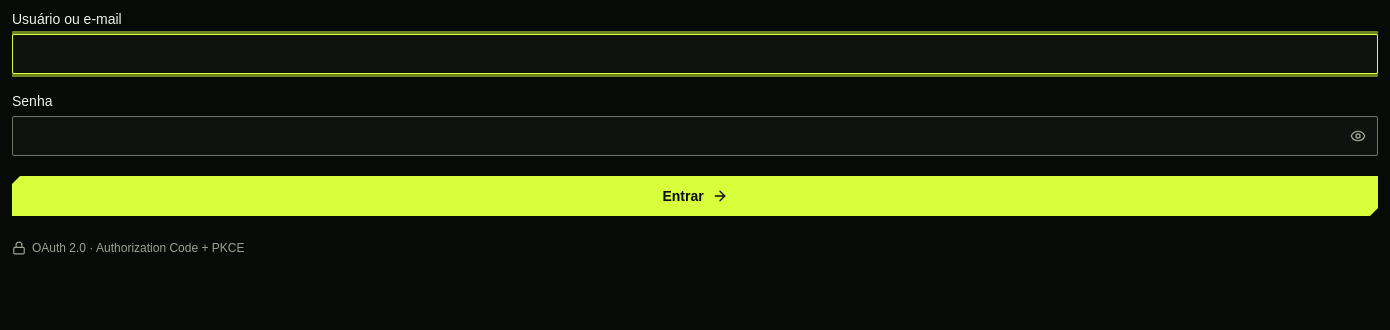
Test: <LoginForm /> › mostra o erro e mantém o usuário digitado
Type "gaspar" into the field labelled "Usuário ou e-mail". click: (695, 54)
box: [12, 34, 1378, 74]
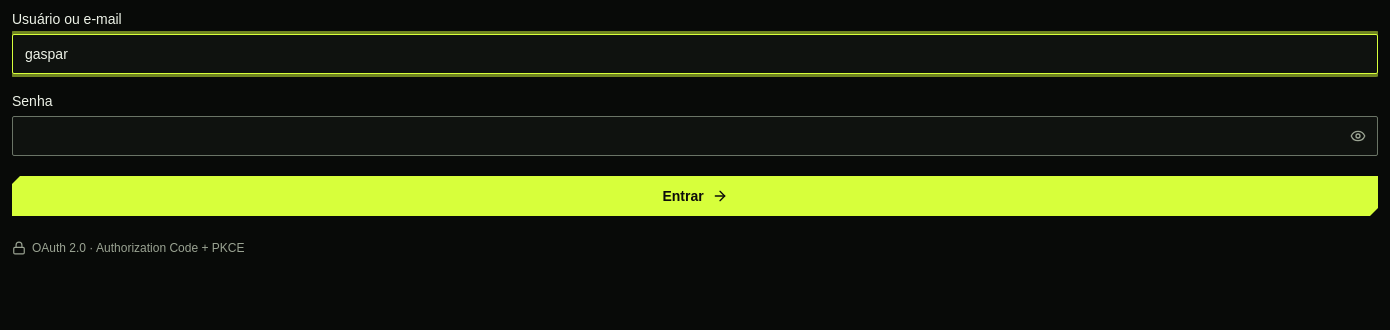
Type "errada" into the password field labelled "Senha". click: (695, 136)
box: [12, 116, 1378, 156]
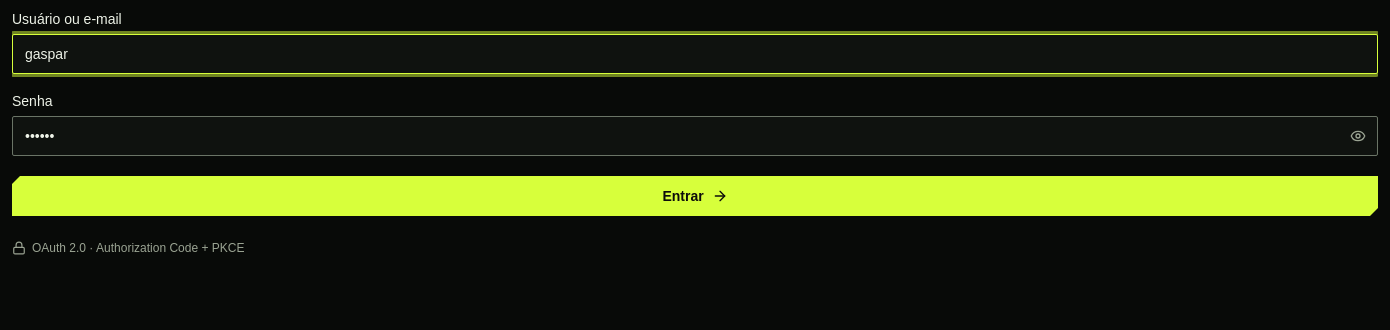
Click the button "Entrar". click: (695, 196)
box: [12, 176, 1378, 216]
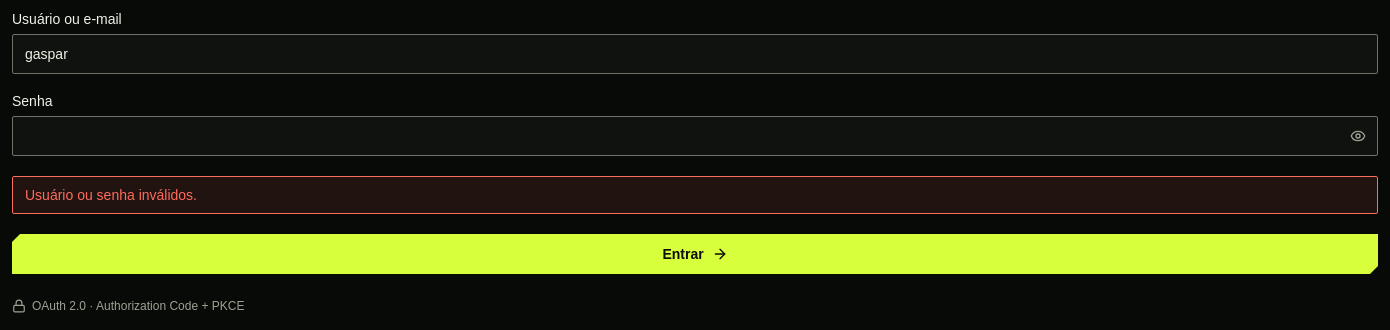
Expected: the message reads "Usuário ou senha inválidos.", [25, 187, 197, 203]
